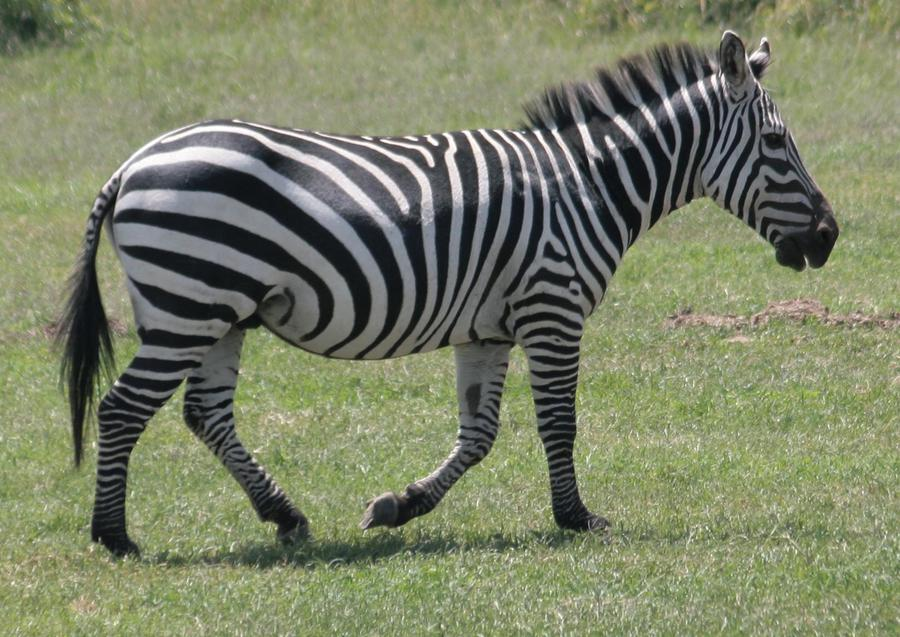zebra_plains: (92, 91, 627, 387)
